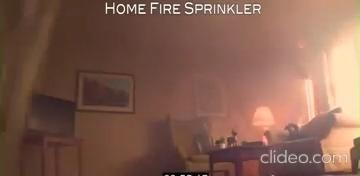fire: (262, 135, 269, 145)
